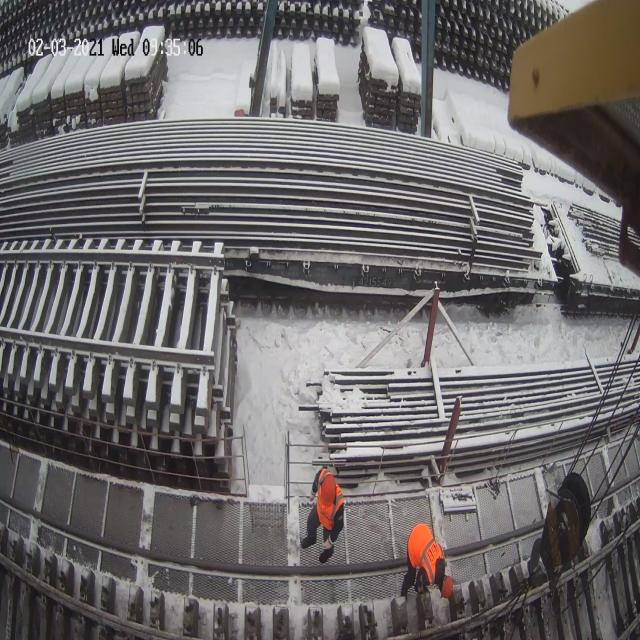Helmet: (319, 473, 339, 512), (441, 576, 453, 598)
Person: (300, 467, 345, 564), (400, 522, 453, 600)
